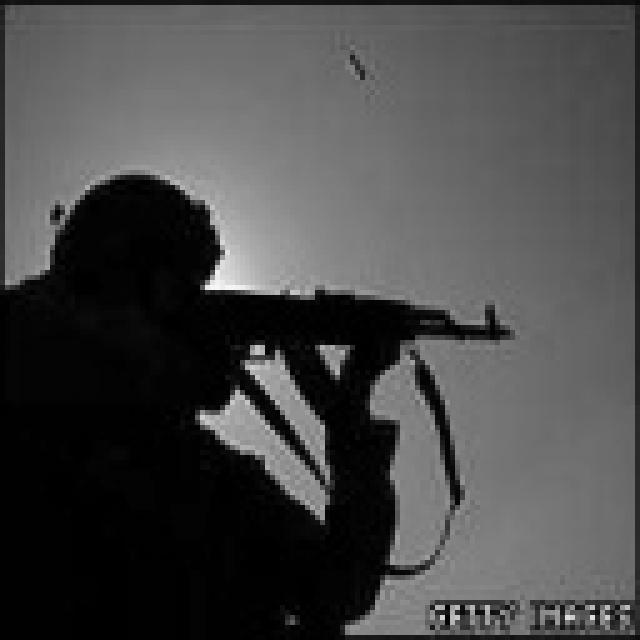Rifle: (5, 227, 531, 598)
